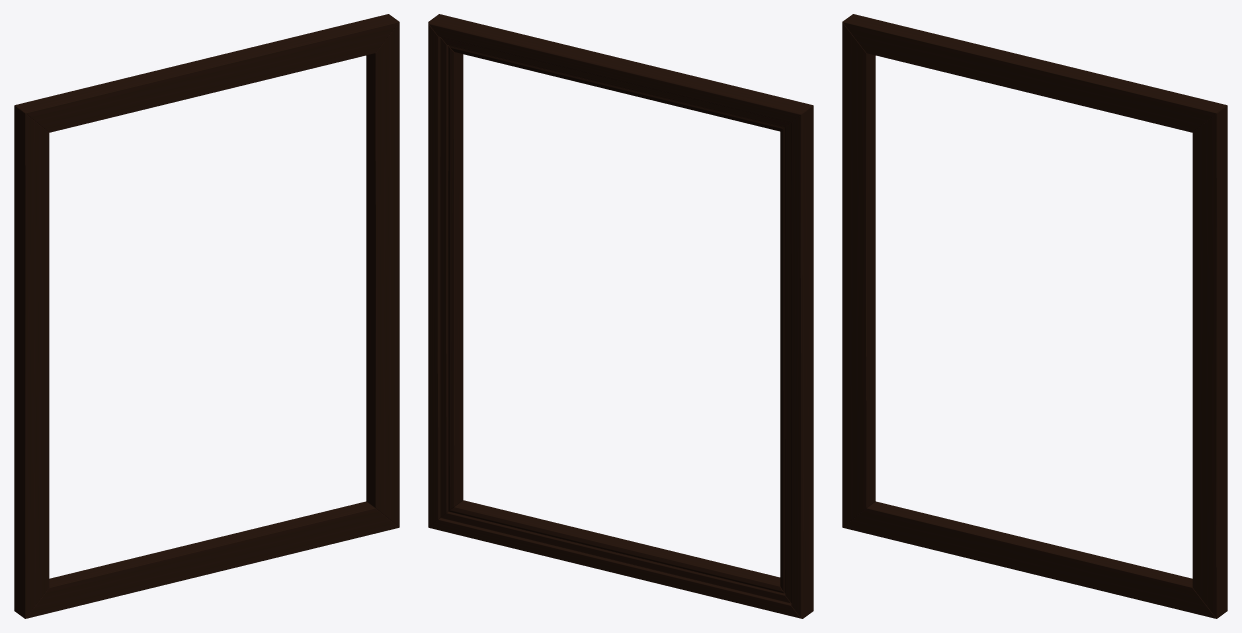
The picture shows the model from 3 angles, left to right: view 1: azimuth 30°, elevation 25°; view 2: azimuth 150°, elevation 25°; view 3: azimuth 330°, elevation 25°; orthographic projection.
Visible parts, largest first — view 1: Moulding_left, Moulding_right, Moulding_top, Moulding_bottom; view 2: Moulding_right, Moulding_left, Moulding_top, Moulding_bottom; view 3: Moulding_right, Moulding_left, Moulding_top, Moulding_bottom.
Boxes of the visible parts, box(x1,y1,x2,y2) form: Moulding_left: box(14, 105, 49, 618); Moulding_right: box(366, 22, 399, 527); Moulding_top: box(14, 14, 399, 132); Moulding_bottom: box(25, 501, 399, 618); Moulding_right: box(428, 24, 463, 526); Moulding_left: box(780, 105, 813, 618); Moulding_top: box(428, 14, 813, 131); Moulding_bottom: box(428, 500, 802, 618); Moulding_right: box(1192, 105, 1227, 618); Moulding_left: box(842, 22, 875, 527); Moulding_top: box(842, 14, 1227, 132); Moulding_bottom: box(842, 501, 1216, 618).
Size of the model in its own units: 0.69 by 0.89 by 0.038.
Materials: 1 (1 with a texture image).
